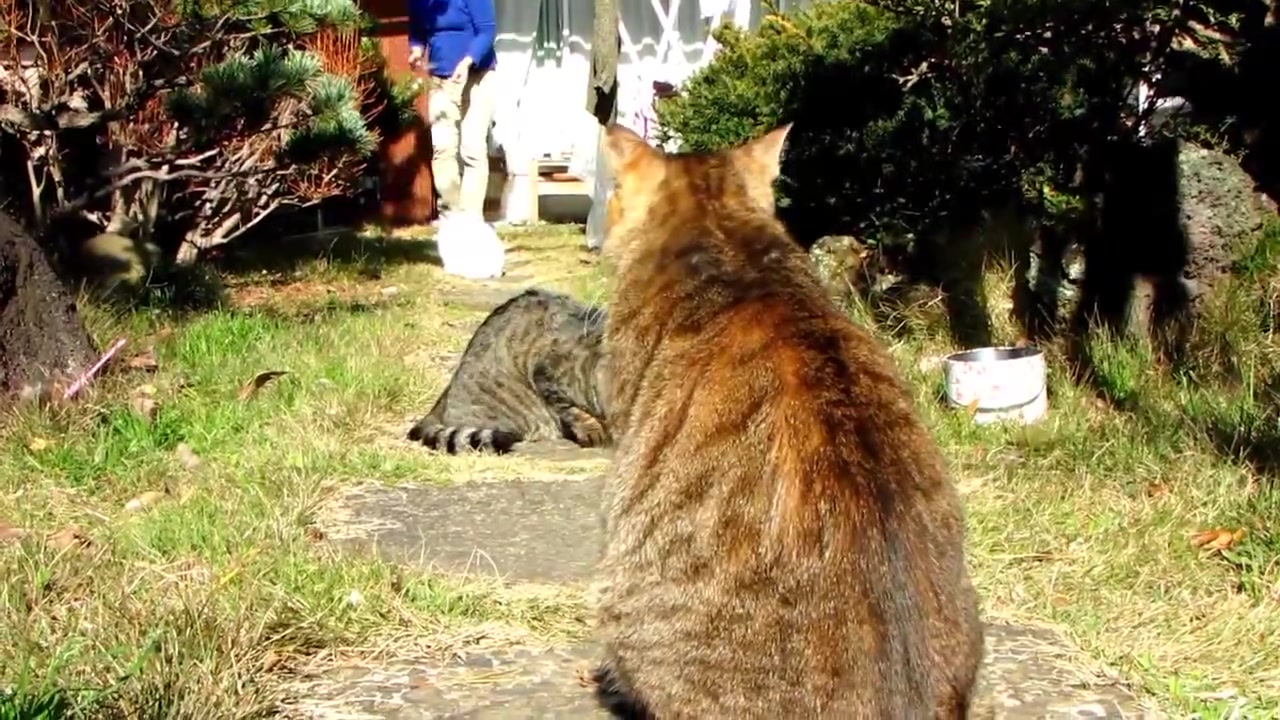cat: (590, 122, 987, 720), (407, 289, 610, 456)
